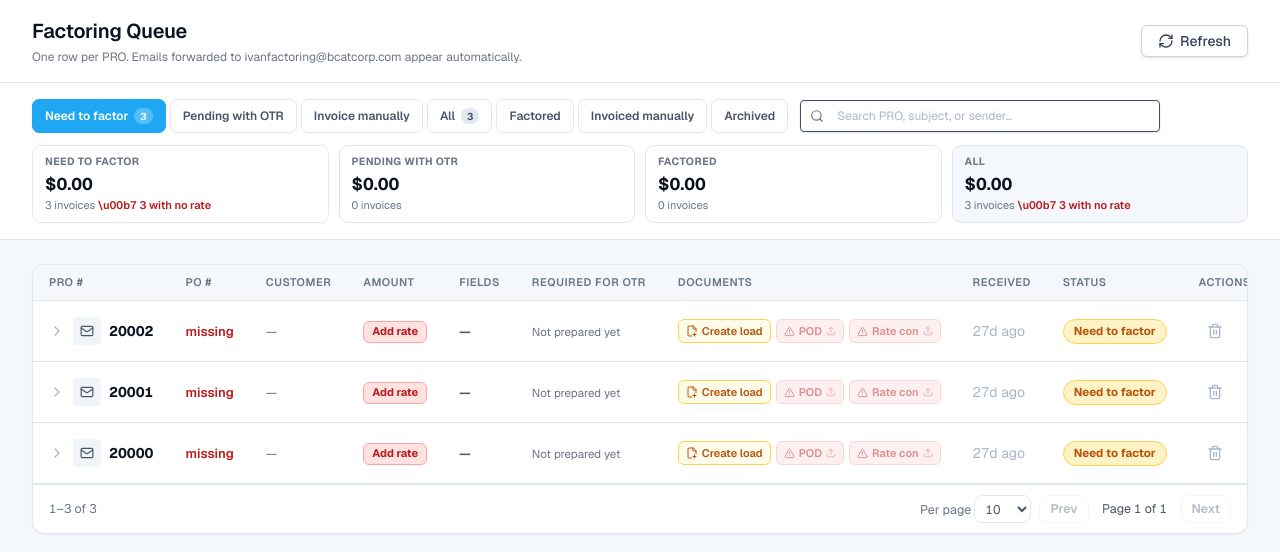
Test case: paging through the queue › says so plainly when a filter matches nothing
Type "zzzzzz" into the field with placeholder "Search PRO, subject, or sender…" at (980,116), box [800, 100, 1160, 132]
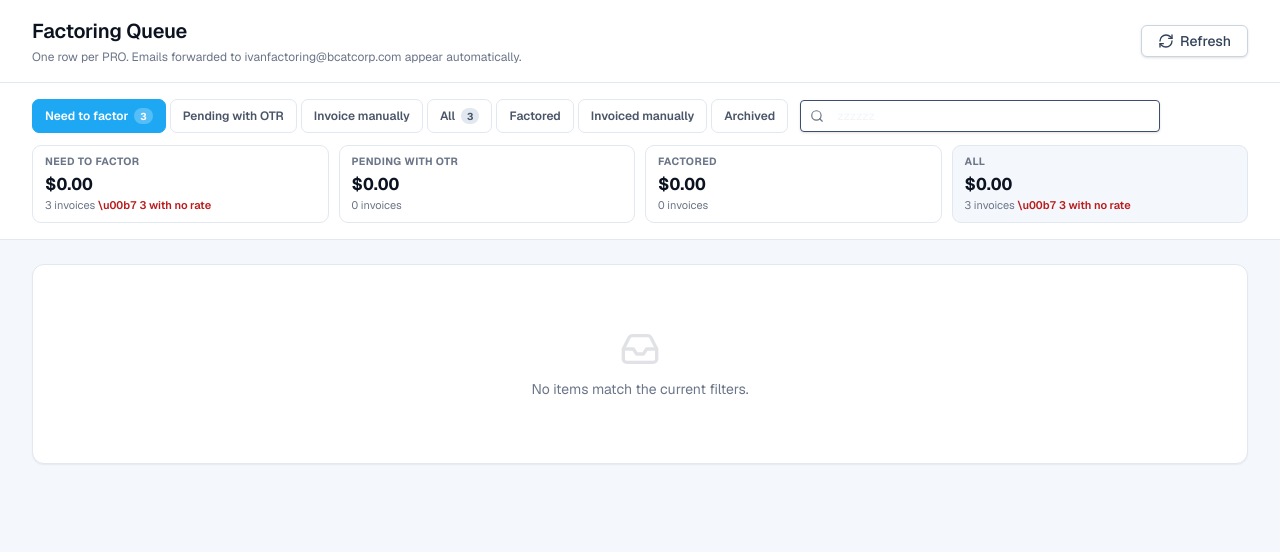
Expected: the text "of 3" is gone
